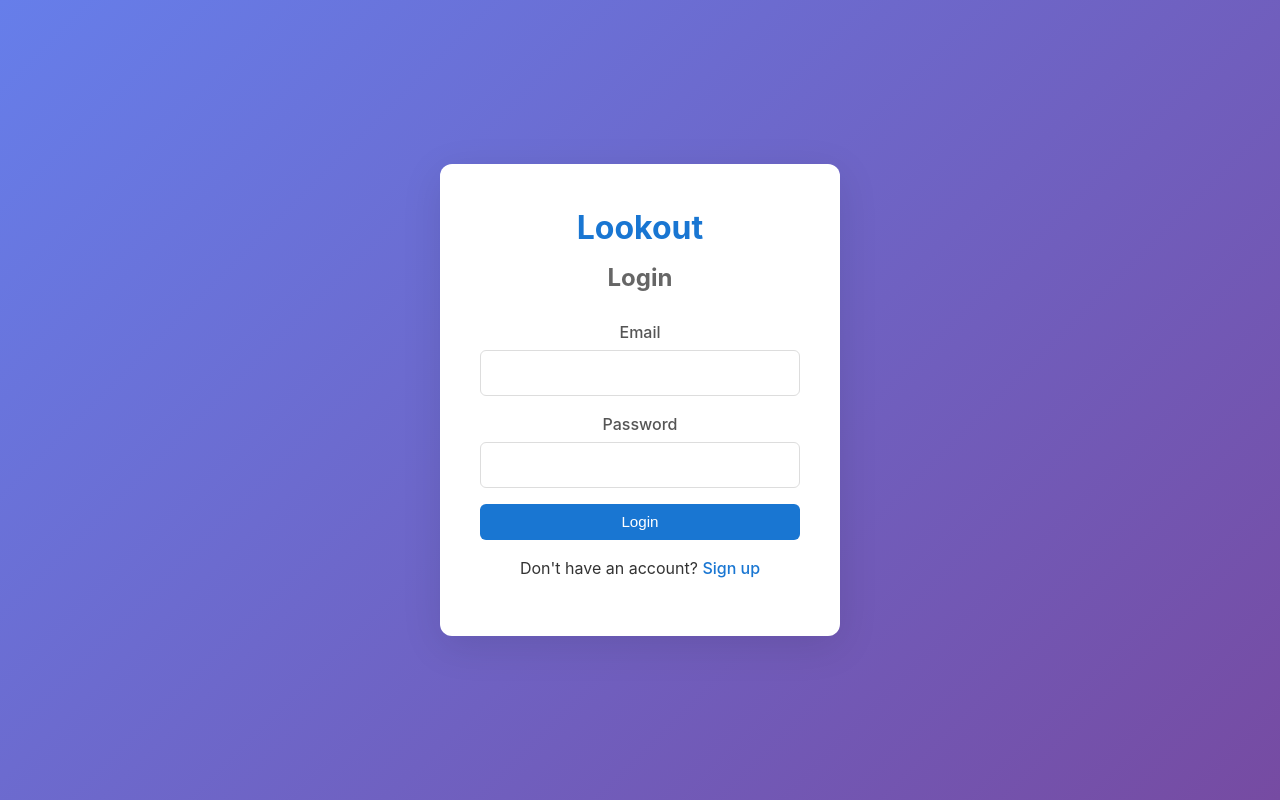
Test: LoginPage › should clear error message on new submission
# First attempt - should fail
In the field labelled "Email": (640,373) [480,350,800,396], type "test@example.com"
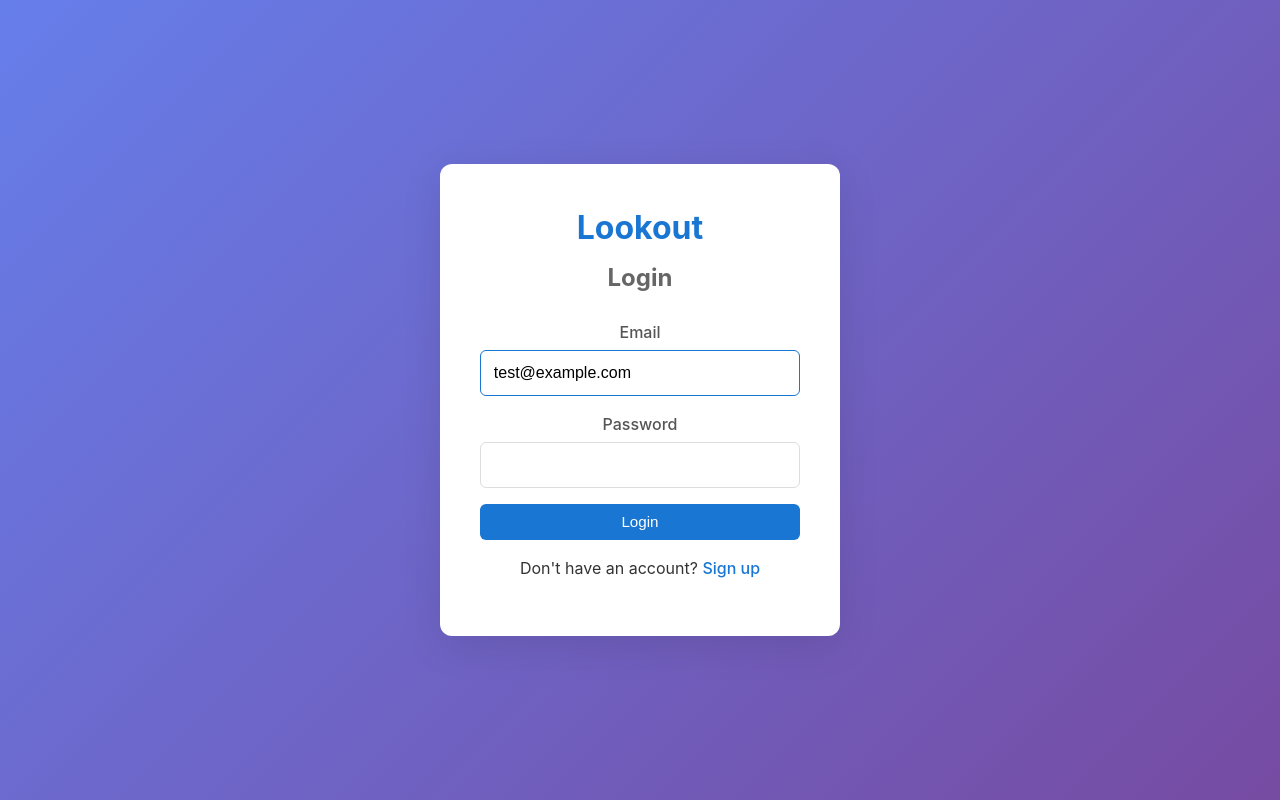
In the password field labelled "Password": (640,465) [480,442,800,488], type "wrongpassword"
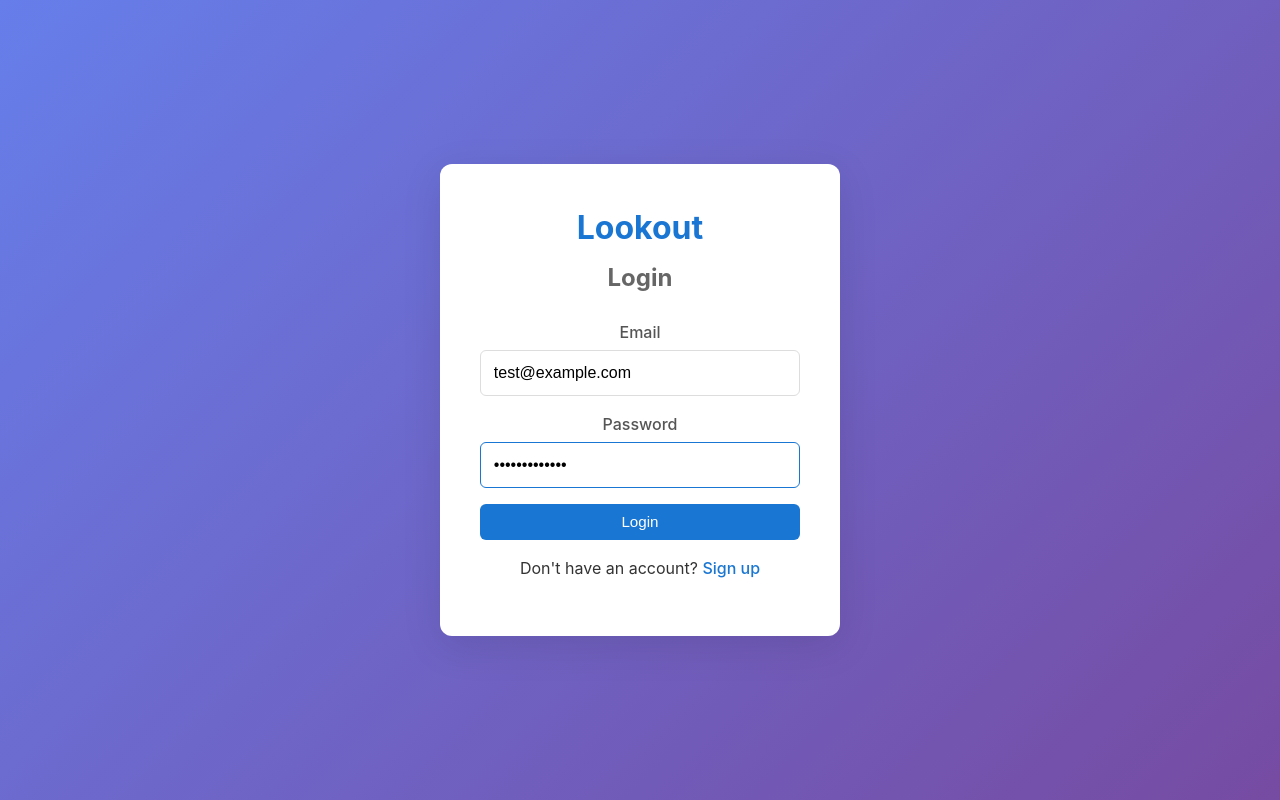
Click the button "Login": (640,522) [480,504,800,540]
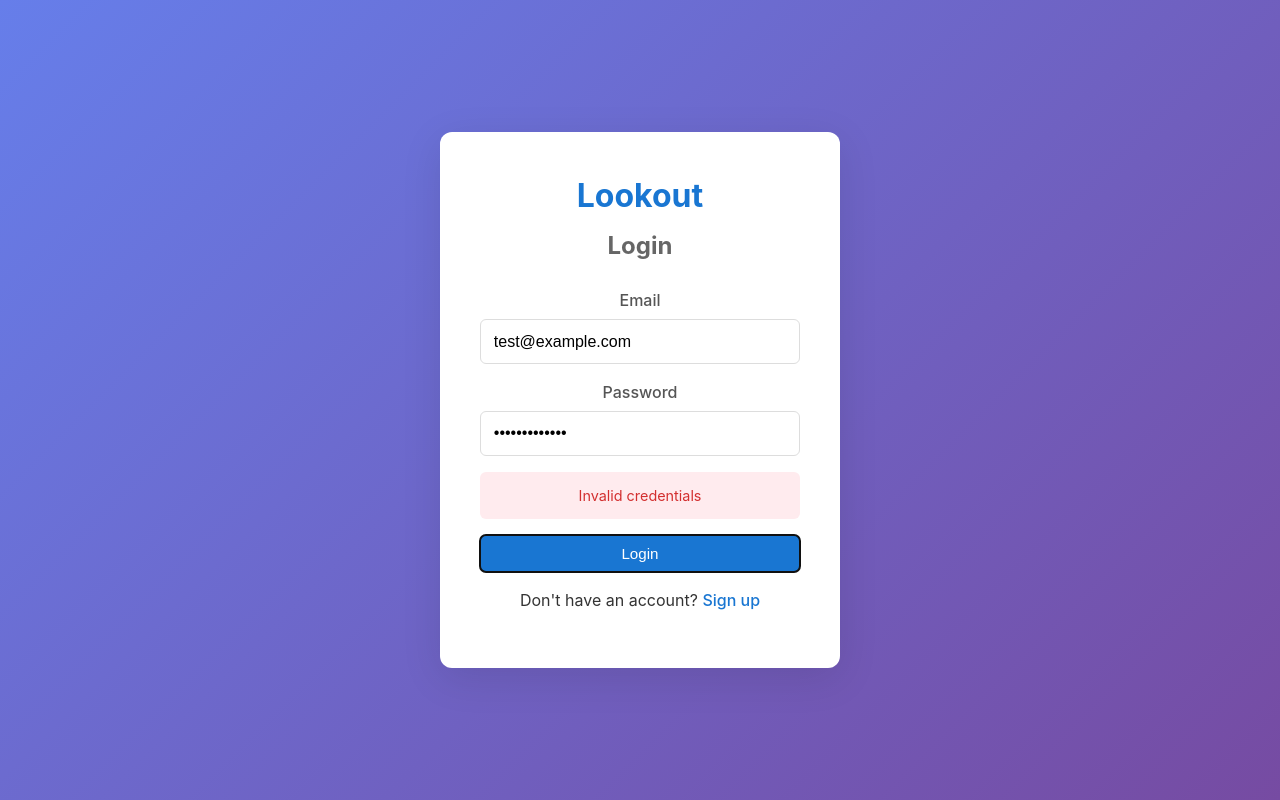
Expected: the text "Invalid credentials" is shown, [480,472,800,520]
# Second attempt - should succeed and clear error
In the password field labelled "Password": (640,434) [480,411,800,456], type "correctpassword"
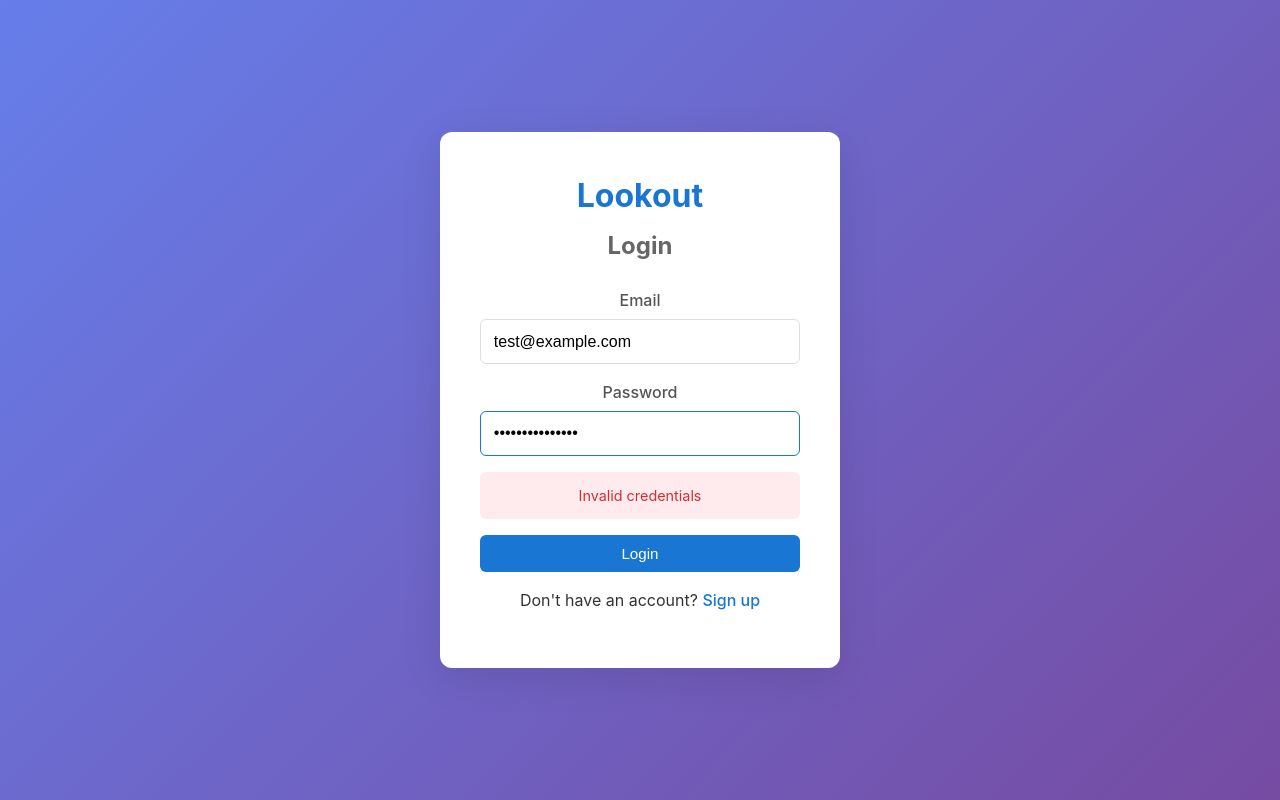
Click the button "Login": (640,554) [480,536,800,572]
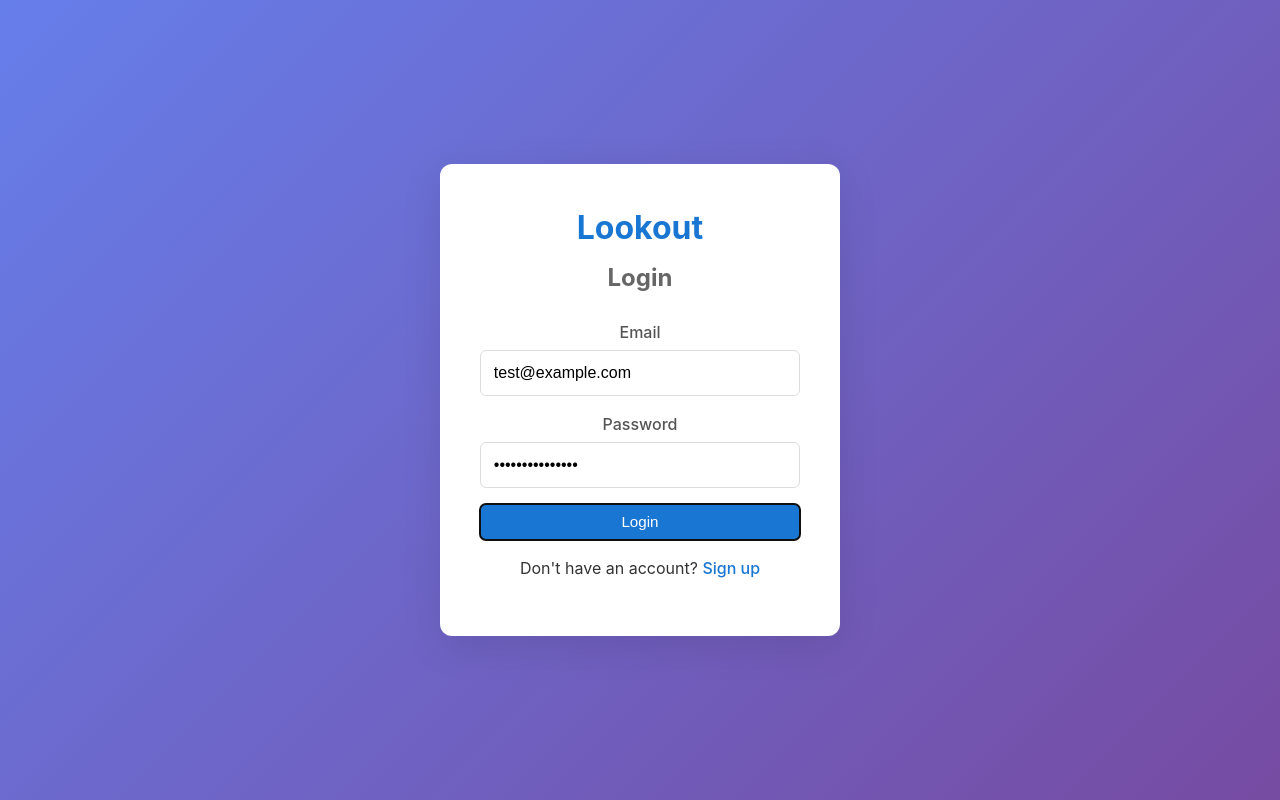
Expected: the text "Invalid credentials" is gone
